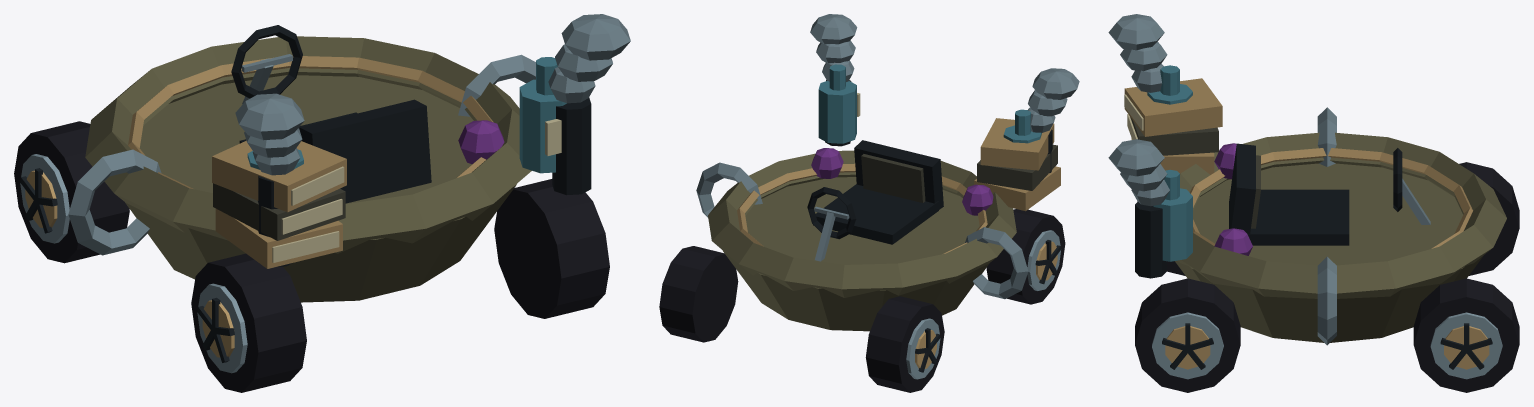
Rendered from kart.glb.
3 renders of one model, left to right at view 1: azimuth 30°, elevation 25°; view 2: azimuth 150°, elevation 25°; view 3: azimuth 270°, elevation 25°, orthographic. The views are drawn at different scales.
Visible parts, largest first — view 1: identity-cauldron-cauldron-open-pot-and-handles, wheel-rear-left, identity-cauldron-motif-smoke, wheel-rear-right, identity-cauldron-motif-books, identity-cauldron-driver-cockpit, wheel-front-left, identity-cauldron-motif-bottles; view 2: identity-cauldron-cauldron-open-pot-and-handles, identity-cauldron-driver-cockpit, wheel-front-left, wheel-front-right, identity-cauldron-motif-books, identity-cauldron-motif-smoke, wheel-rear-left, identity-cauldron-motif-bottles; view 3: identity-cauldron-cauldron-open-pot-and-handles, wheel-front-right, wheel-rear-right, identity-cauldron-driver-cockpit, identity-cauldron-motif-smoke, identity-cauldron-motif-books, identity-cauldron-motif-bottles, wheel-front-left.
Part boxes in pixels (<box>): identity-cauldron-cauldron-open-pot-and-handles: <box>68,36,535,302</box>; wheel-rear-left: <box>191,253,306,392</box>; identity-cauldron-motif-smoke: <box>235,14,630,266</box>; wheel-rear-right: <box>494,179,609,318</box>; identity-cauldron-motif-books: <box>212,140,346,268</box>; identity-cauldron-driver-cockpit: <box>231,25,431,203</box>; wheel-front-left: <box>14,121,129,263</box>; identity-cauldron-motif-bottles: <box>247,57,566,173</box>; identity-cauldron-cauldron-open-pot-and-handles: <box>696,148,1028,331</box>; identity-cauldron-driver-cockpit: <box>807,140,943,261</box>; wheel-front-left: <box>865,296,944,392</box>; wheel-front-right: <box>659,246,738,342</box>; identity-cauldron-motif-books: <box>974,118,1060,211</box>; identity-cauldron-motif-smoke: <box>810,14,1079,173</box>; wheel-rear-left: <box>986,209,1065,304</box>; identity-cauldron-motif-bottles: <box>818,64,1041,143</box>; identity-cauldron-cauldron-open-pot-and-handles: <box>1175,107,1506,345</box>; wheel-front-right: <box>1413,278,1519,392</box>; wheel-rear-right: <box>1135,278,1240,392</box>; identity-cauldron-driver-cockpit: <box>1229,143,1430,245</box>; identity-cauldron-motif-smoke: <box>1108,14,1169,278</box>; identity-cauldron-motif-books: <box>1124,78,1222,174</box>; identity-cauldron-motif-bottles: <box>1147,65,1192,261</box>; wheel-front-left: <box>1459,162,1519,275</box>.
Size of the model in its own units: 2.51 by 1.53 by 2.33.
